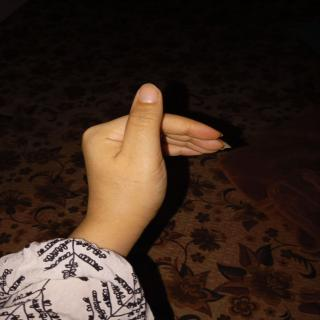KHAA: (74, 72, 248, 247)
